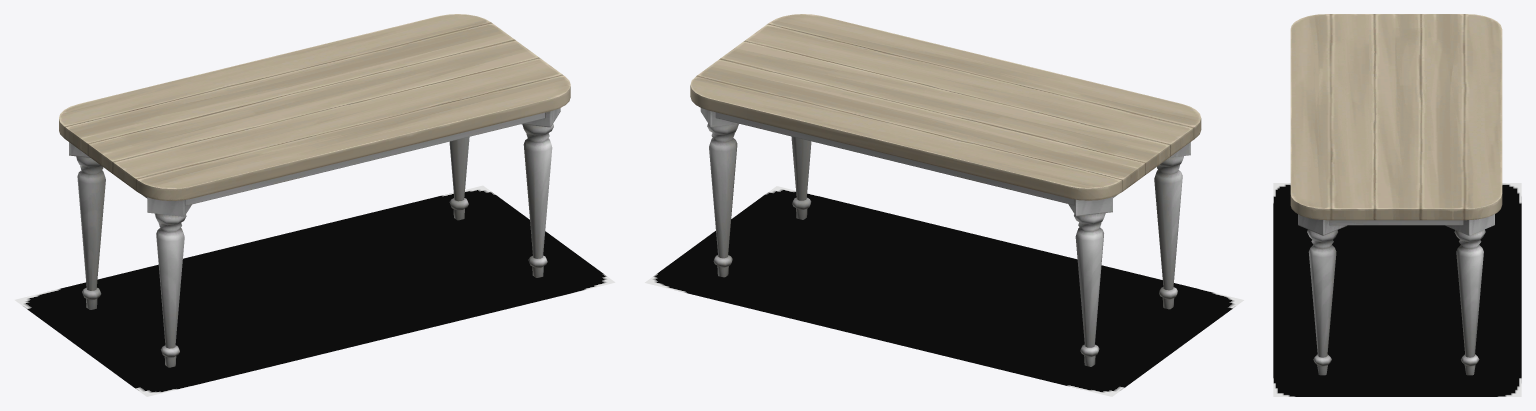
File: jj_ty_table07_01.FBX
The picture shows the model from 3 angles, left to right: view 1: azimuth 30°, elevation 25°; view 2: azimuth 150°, elevation 25°; view 3: azimuth 270°, elevation 25°; orthographic projection. The views are drawn at different scales.
Visible parts, largest first — view 1: jj_ty_table07_01, shadow; view 2: jj_ty_table07_01, shadow; view 3: jj_ty_table07_01, shadow.
Part boxes in pixels (x1,y1,x2,y2): jj_ty_table07_01: (59,14,570,367); shadow: (15,185,615,396); jj_ty_table07_01: (690,14,1201,366); shadow: (645,186,1243,396); jj_ty_table07_01: (1290,14,1502,375); shadow: (1273,183,1521,396).
Bounding box in the file's own units: 59.45 × 23.38 × 29.13.
